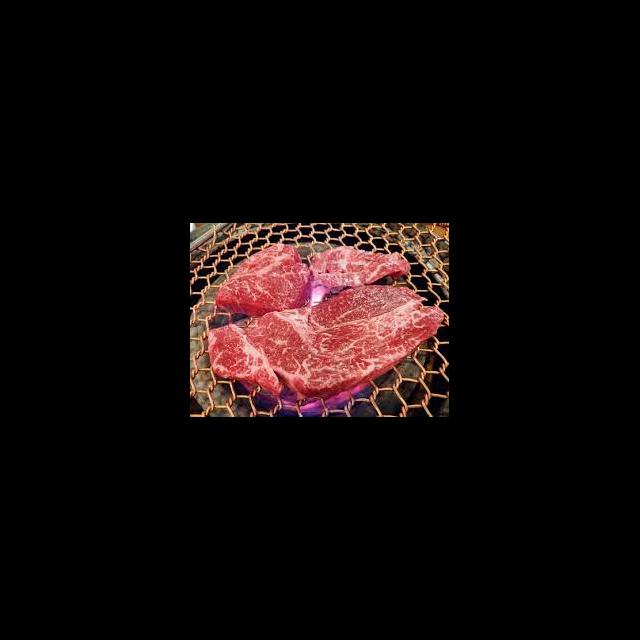beef: (210, 287, 448, 406), (217, 246, 320, 312)
